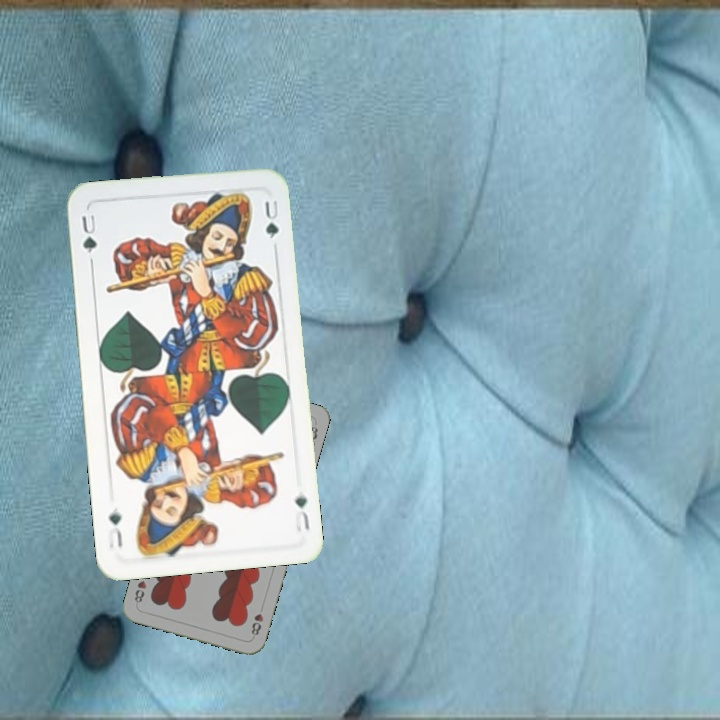GU: (77, 210, 100, 256), (290, 487, 312, 534)
H8: (247, 609, 266, 640)
